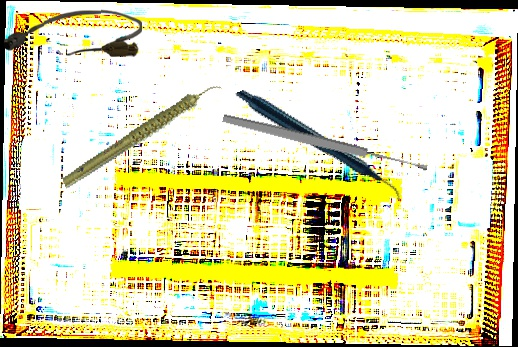Cannula: (3, 8, 143, 60)
Handpiece: (234, 49, 403, 243), (49, 81, 237, 191)
Surgical Spoon: (221, 111, 429, 176)
